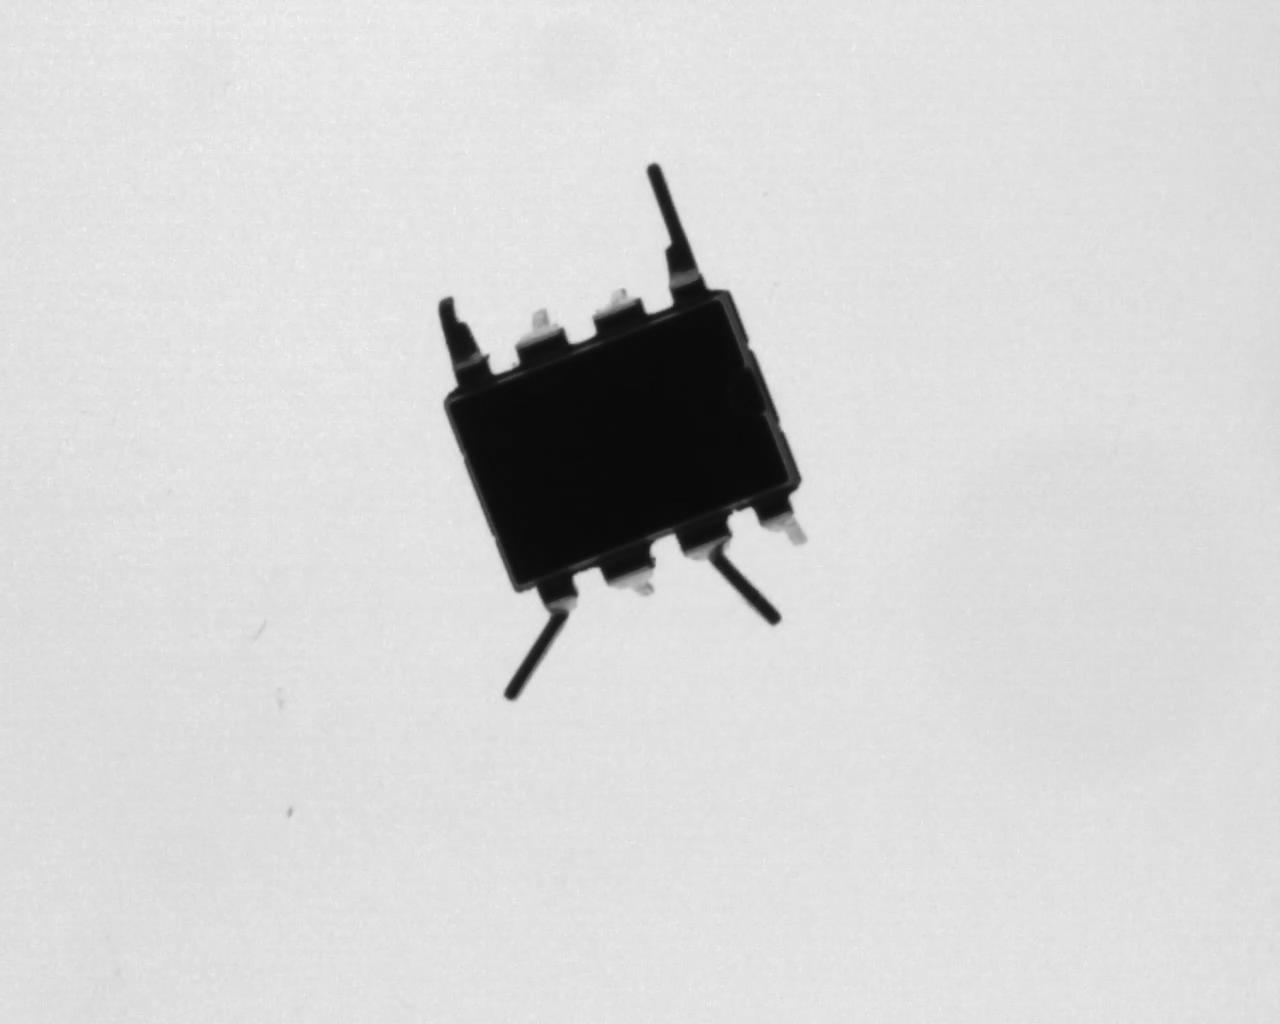Leg: (675, 516, 783, 626), (504, 575, 579, 702), (646, 161, 711, 304), (438, 296, 494, 385), (599, 540, 658, 597), (754, 491, 810, 546), (515, 307, 569, 364), (591, 284, 647, 333)
